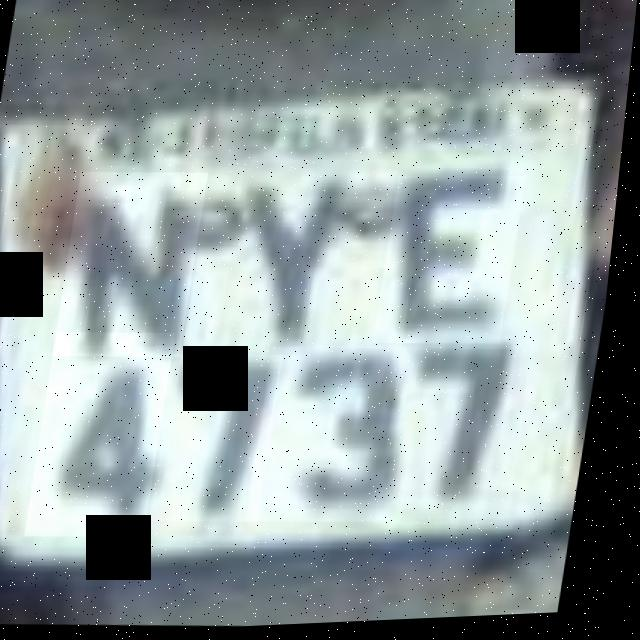3: (256, 343, 436, 532)
4: (36, 329, 184, 543)
7: (373, 342, 540, 527), (149, 352, 292, 529)
E: (381, 174, 531, 353)
N: (60, 168, 213, 364)
Y: (223, 159, 382, 364)
